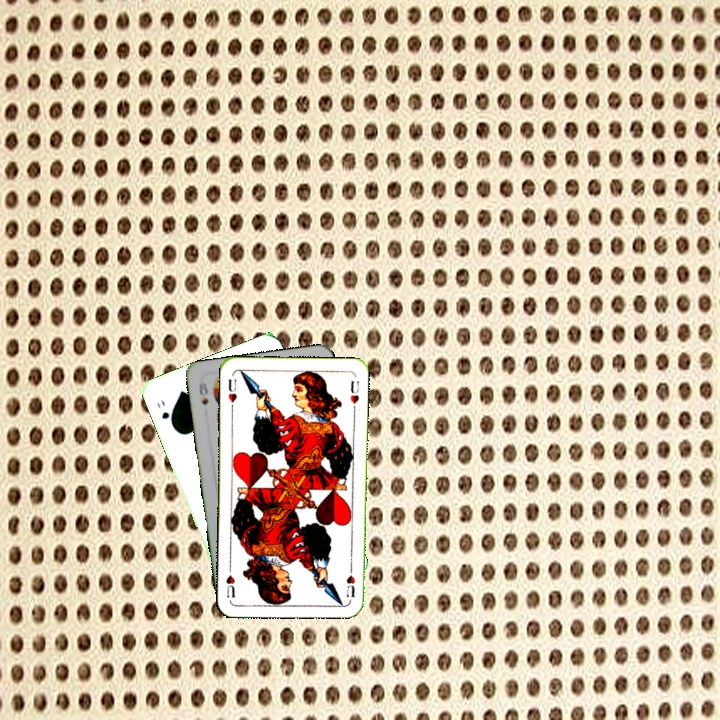GO: (153, 395, 176, 430)
HU: (342, 561, 358, 599), (224, 375, 239, 412)
S8: (195, 379, 211, 408)
